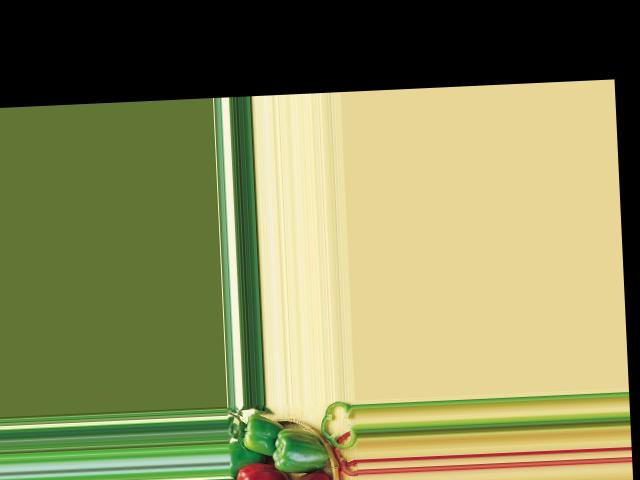bell_pepper: (278, 473, 333, 480)
